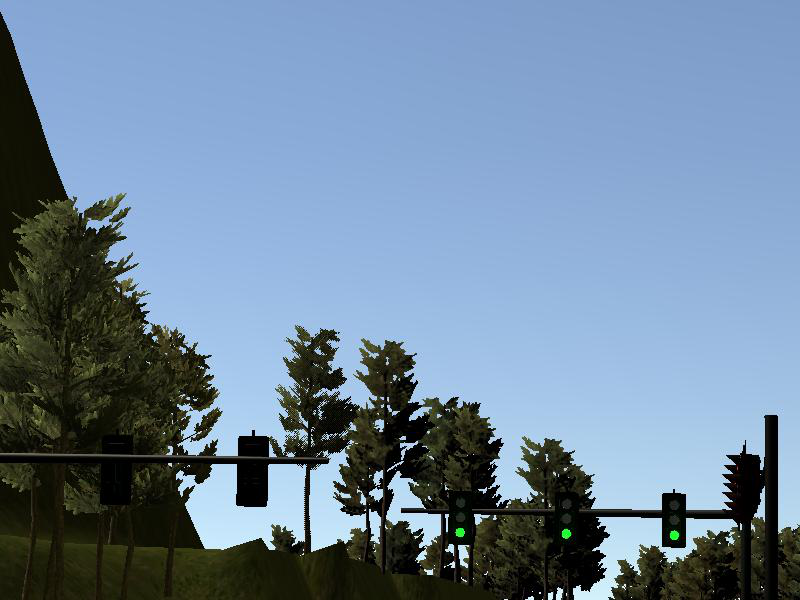green: (450, 491, 475, 546), (662, 494, 687, 547), (555, 493, 578, 545)
